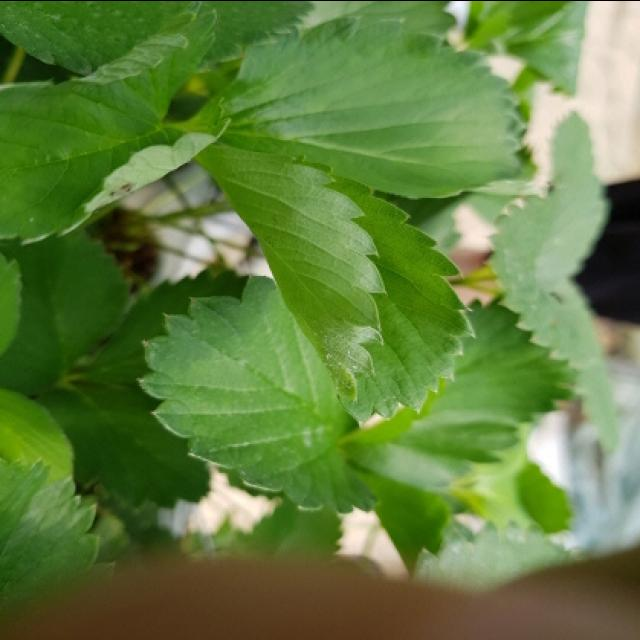Powdery Mildew Leaf: (322, 320, 385, 399)
